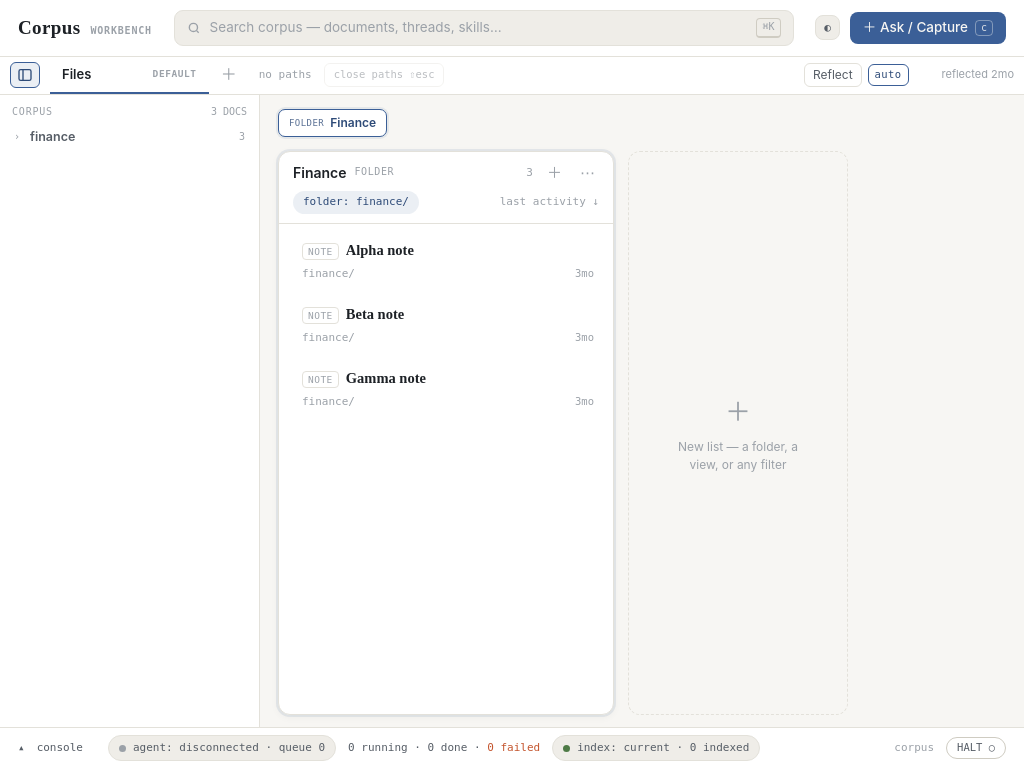
Test case: the tree › keeps an archived document in the tree, marked
Click the list item "› finance 3".
click(130, 137)  # box 6,125 -> 253,149
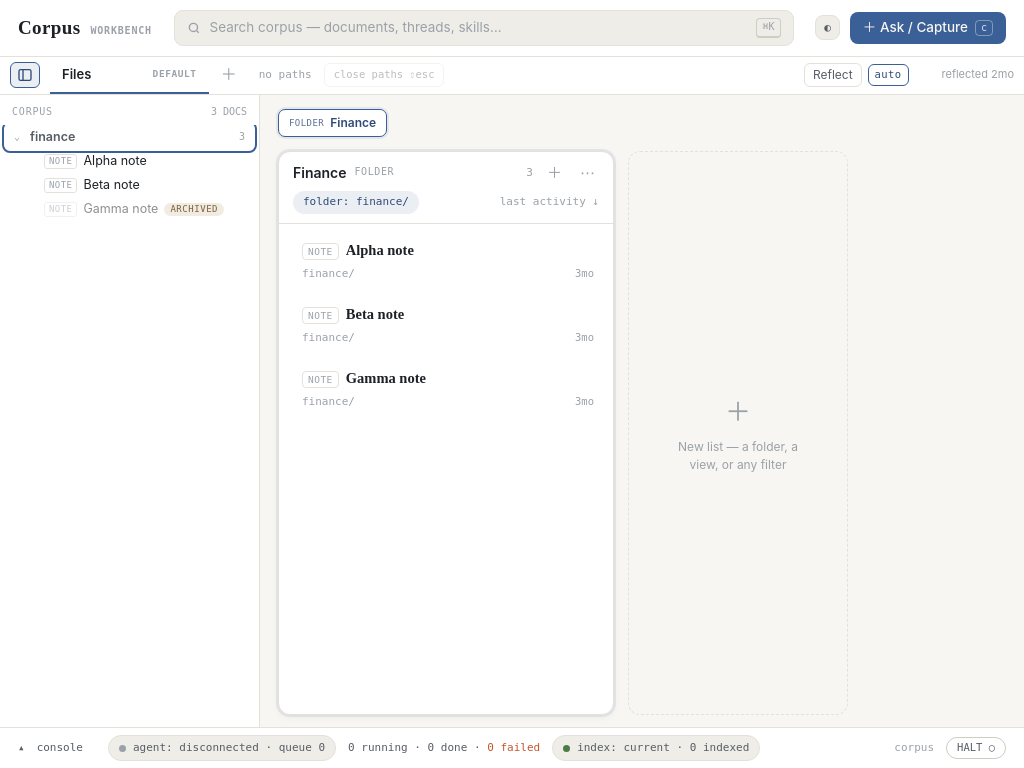
Check: the text "archived" is shown, box 164,203 -> 224,216
